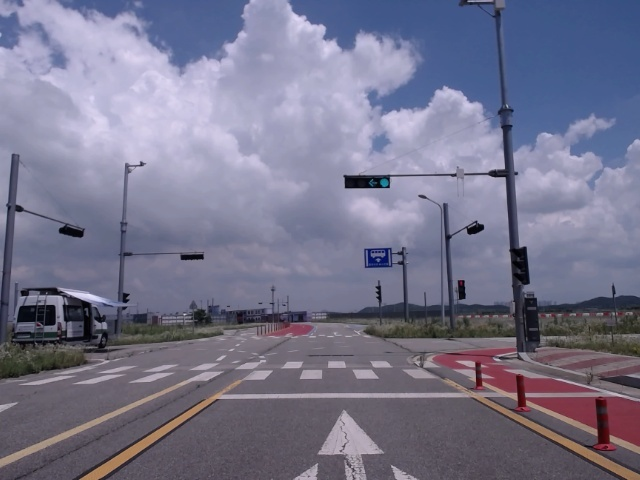all_green_4: (343, 174, 389, 188)
